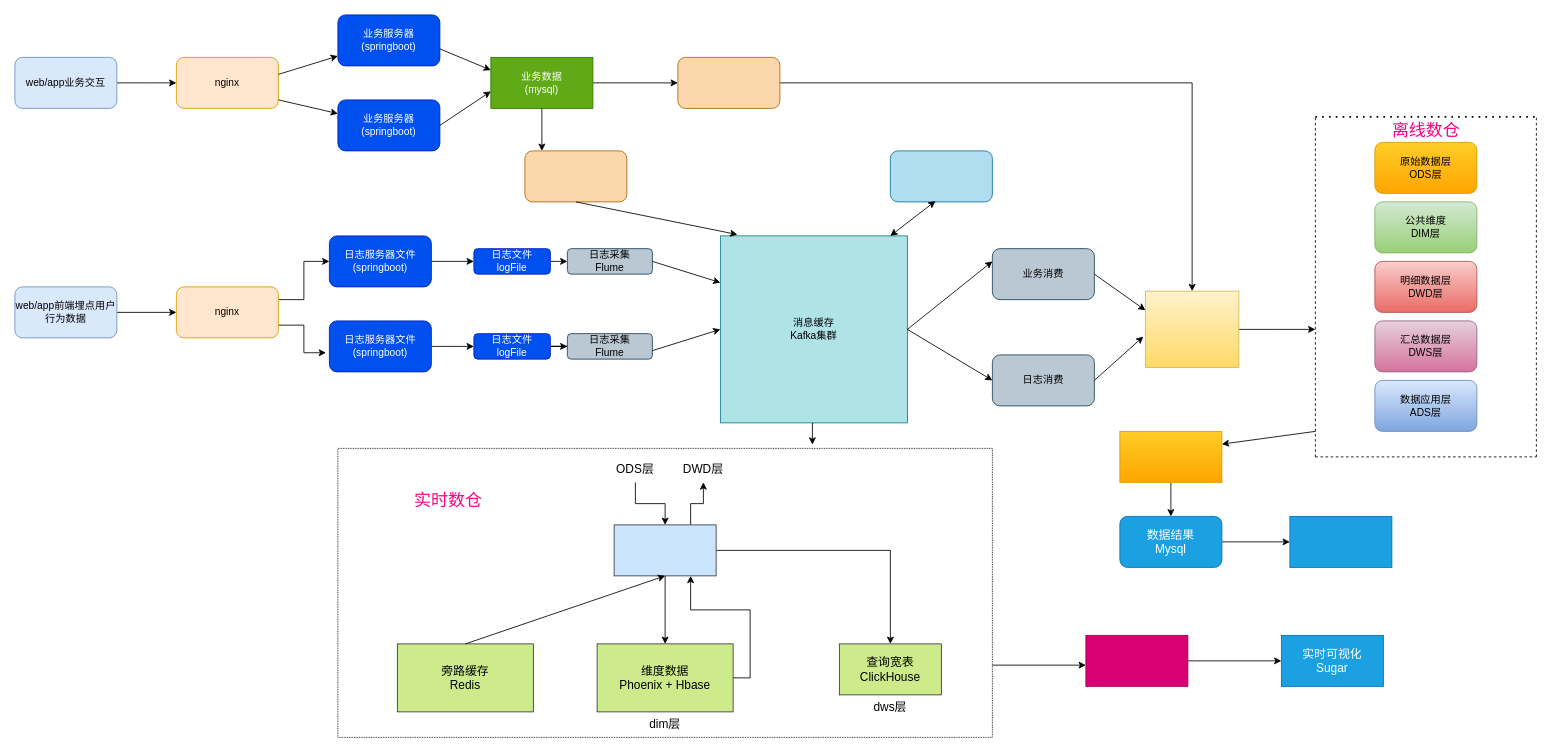
This 1553x752 diagram has some shape labels left out. Here are the shapes that lost their labels. From the top down, the centre of each, then its label:
[728,82]: 每日全量 DataX
[575,176]: 增量同步 Maxwell
[941,176]: zookepper调度协调
[1192,329]: 集群存储 Hadoop
[1170,456]: 每日同步
[664,550]: Flink
[1340,541]: 离线可视化 Superset
[1136,660]: springboot数据服务接口
